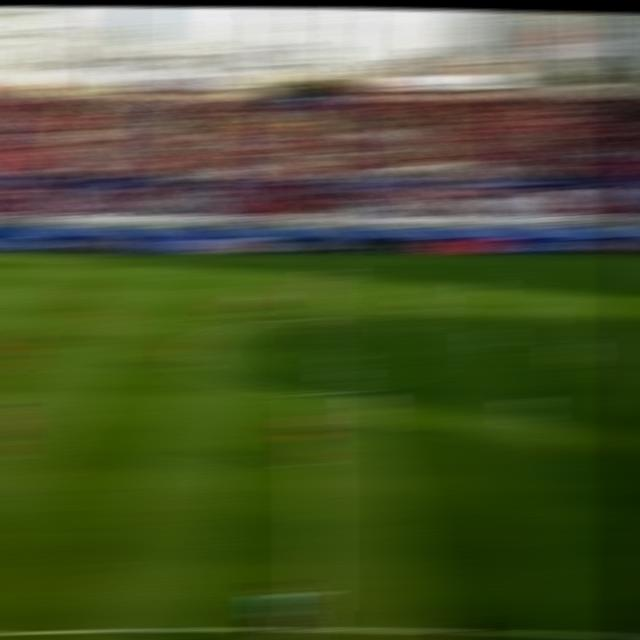halfcircle_bottom: (293, 378, 333, 404)
halfcircle_top: (293, 309, 335, 327)
midline_bottom_intersection: (290, 613, 337, 636)
midline_top_intersection: (294, 251, 329, 264)
